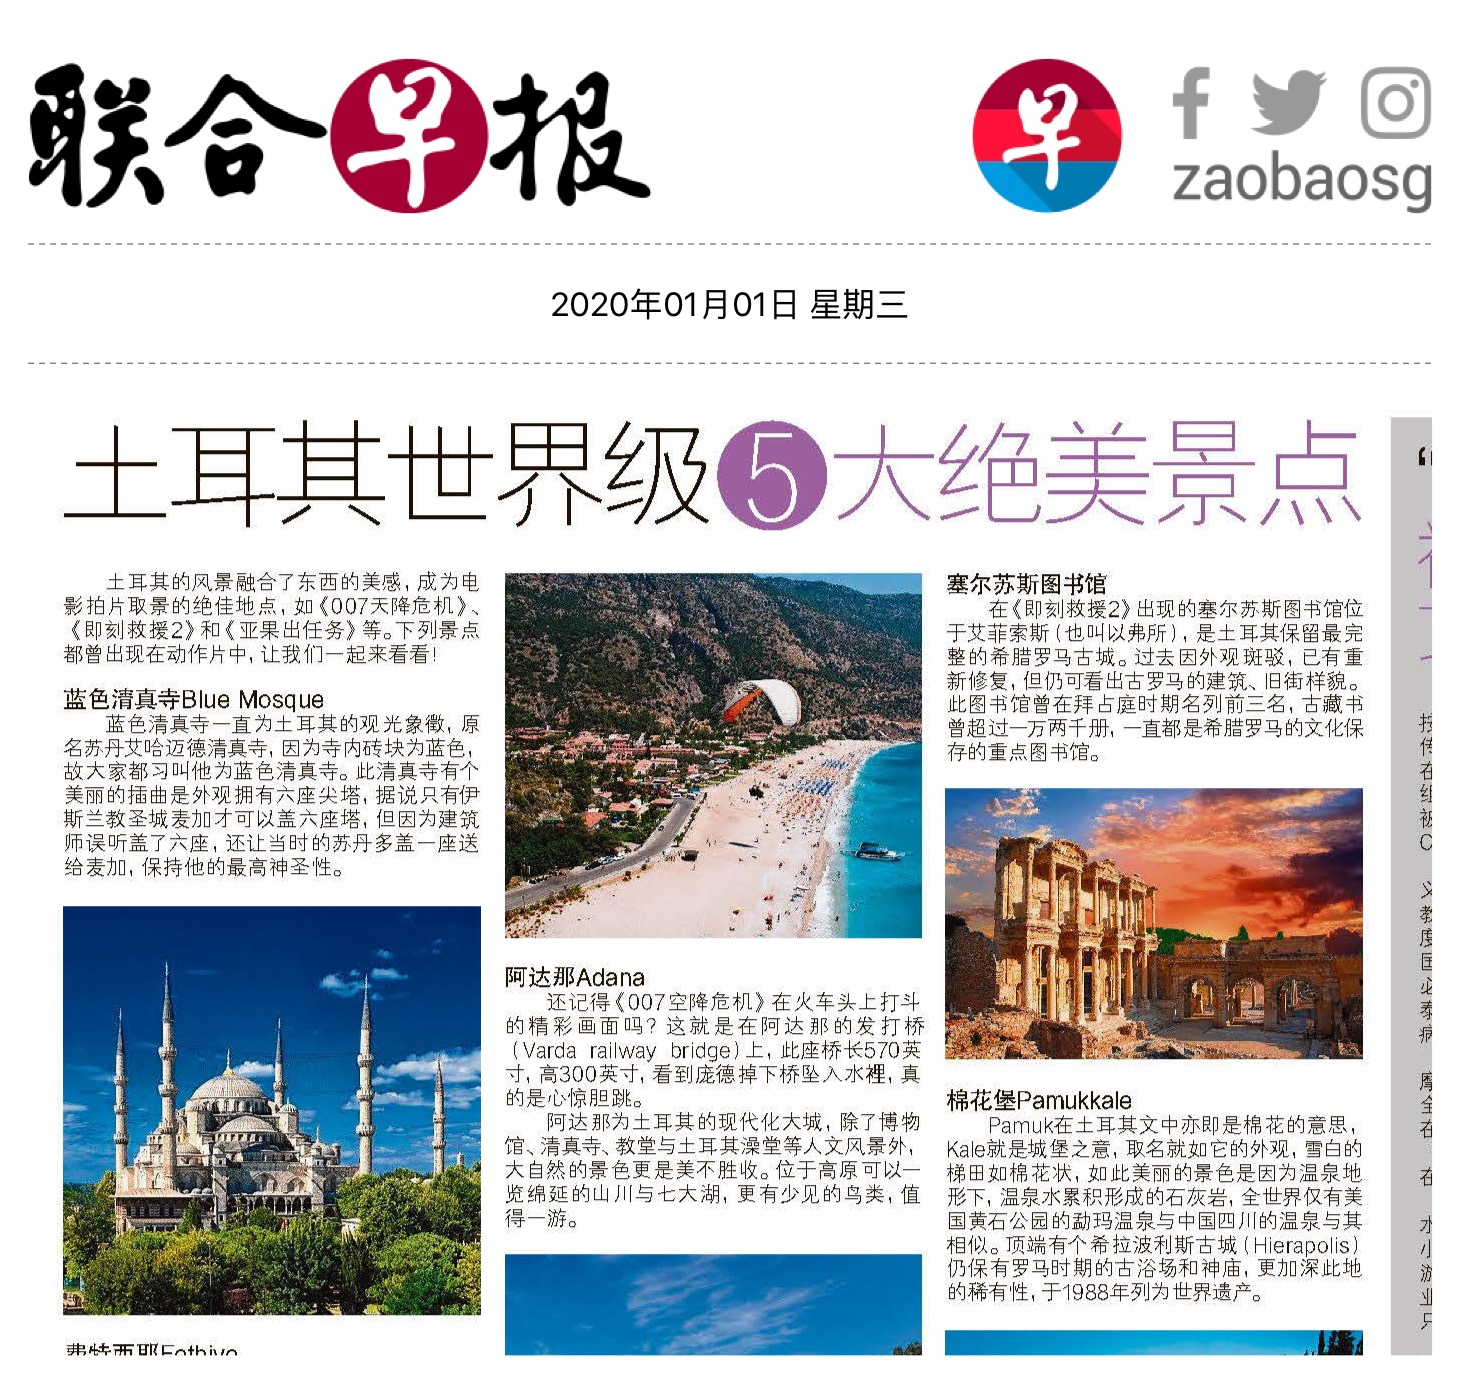heading: (57, 405, 1376, 535)
